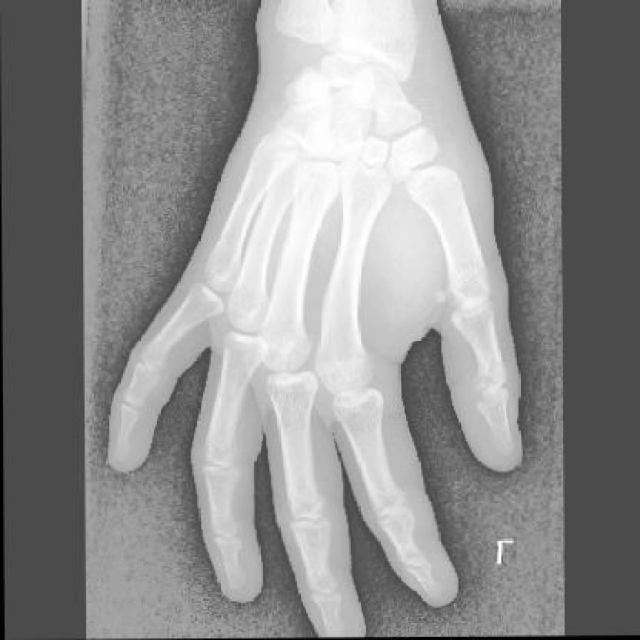Fracture: (384, 146, 418, 185)
